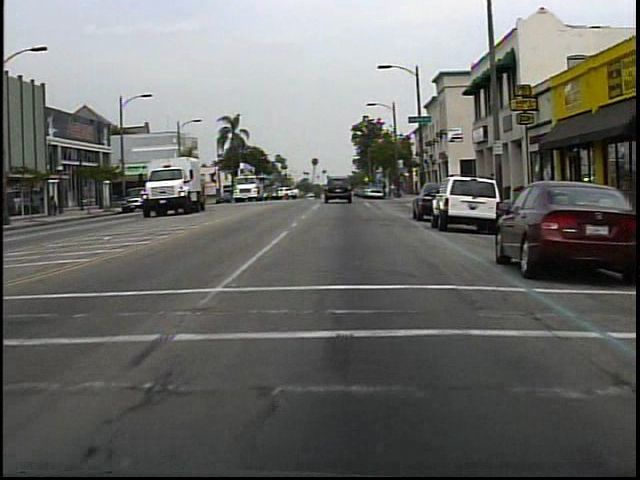person: (49, 193, 59, 218)
